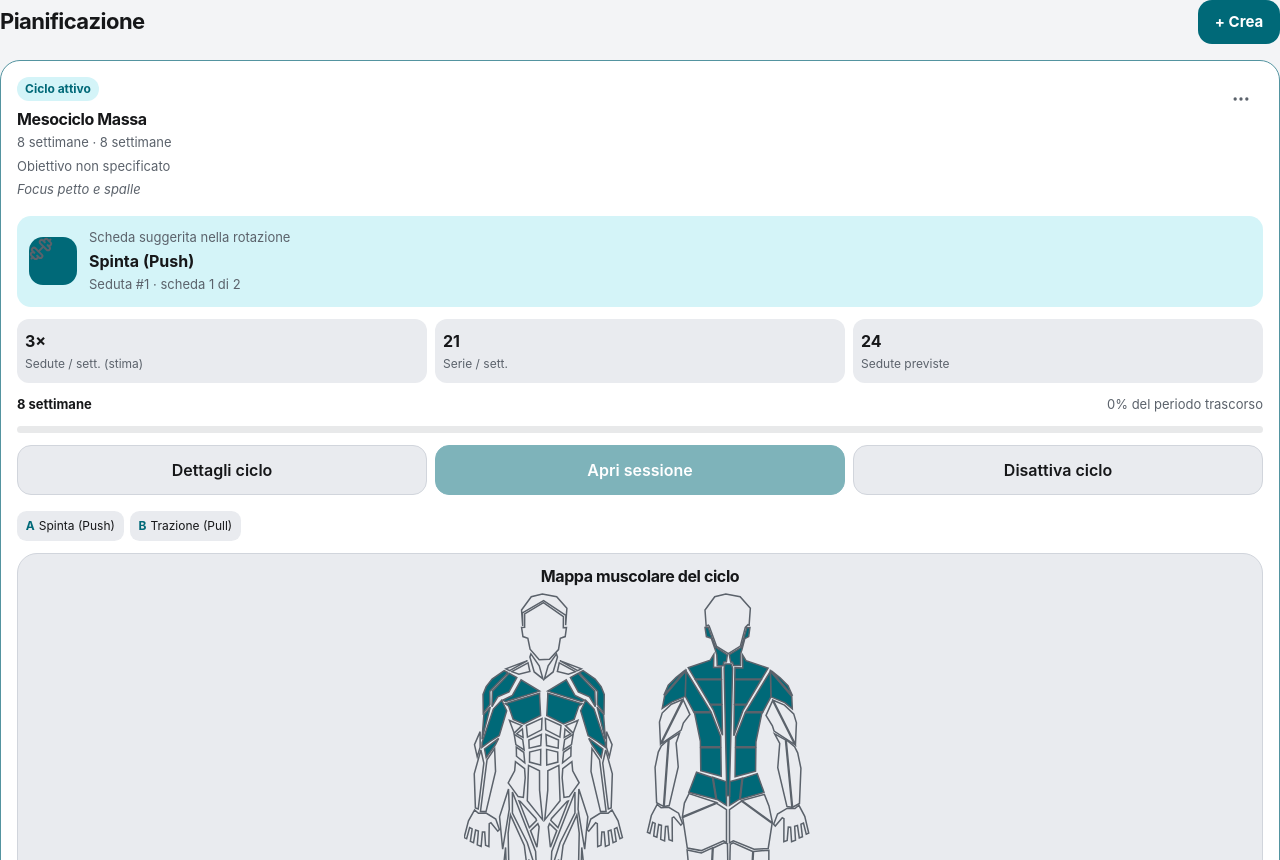
Test: Training Planning & Volume Calculations › TrainingPlanning UI Component › scrolls to top and opens editor when clicking Modifica on a cycle
The width and height of the screenshot is (1280, 860).
Click the button titled "Opzioni" at {"x": 1241, "y": 99}, box [1219, 77, 1263, 121]
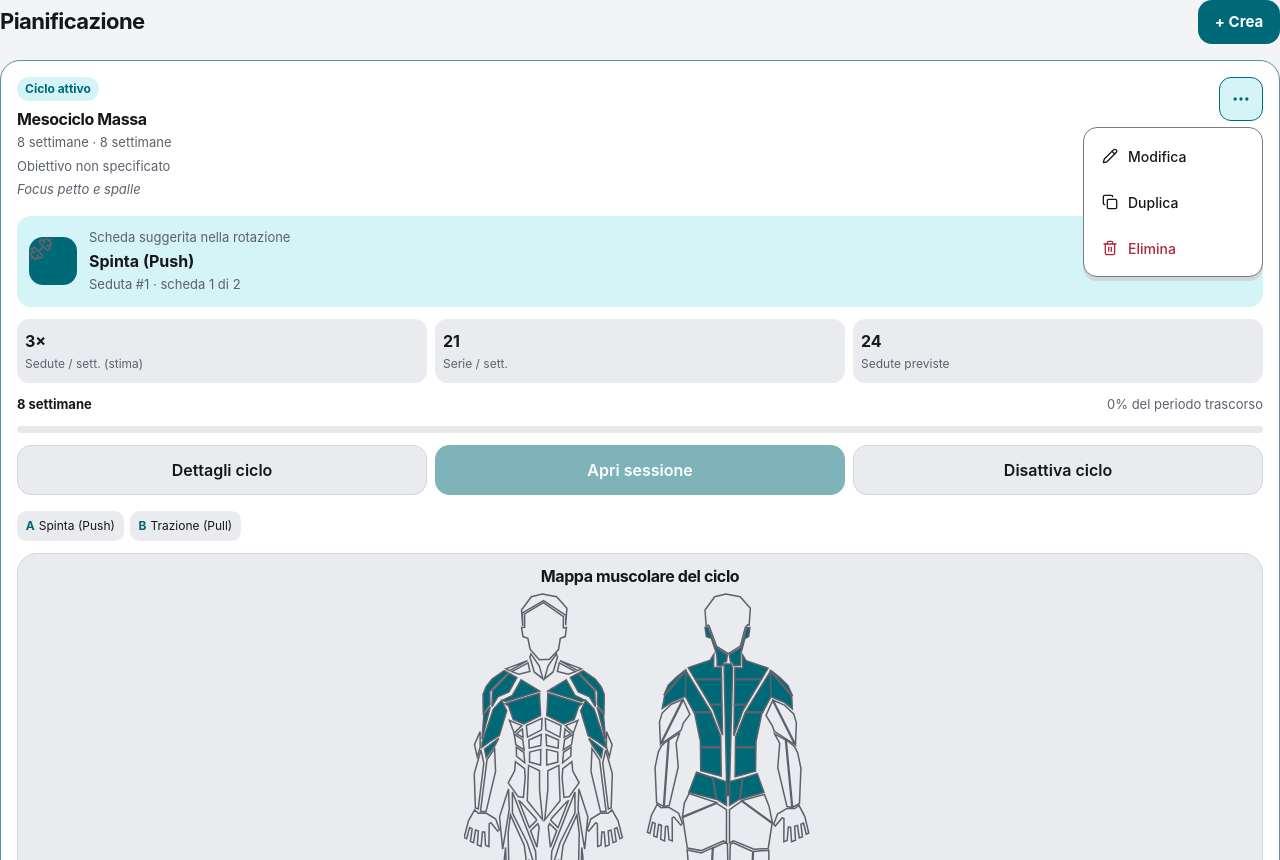
Click the menu item "Modifica" at {"x": 1173, "y": 156}, box [1090, 134, 1256, 178]
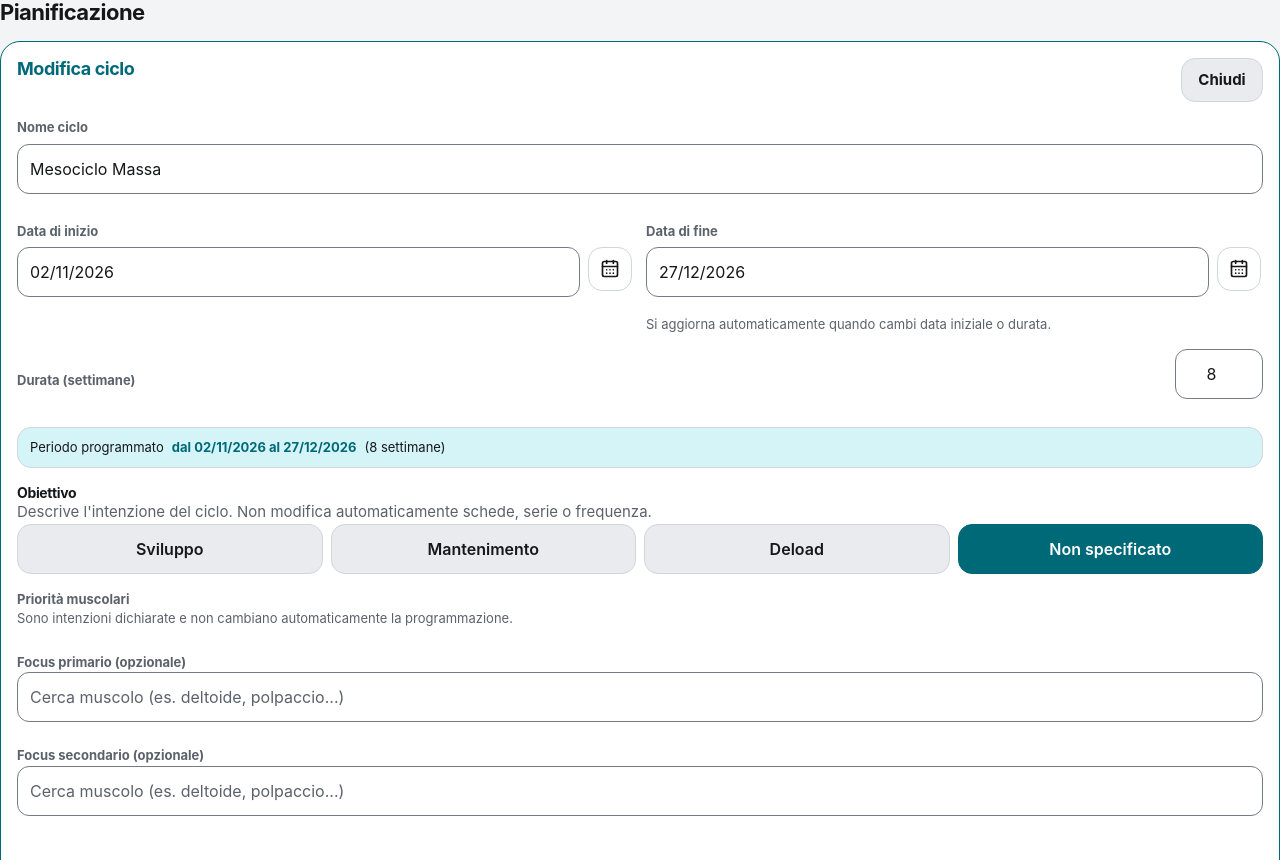
Check: the heading "Modifica ciclo" is shown, box [17, 58, 134, 81]
